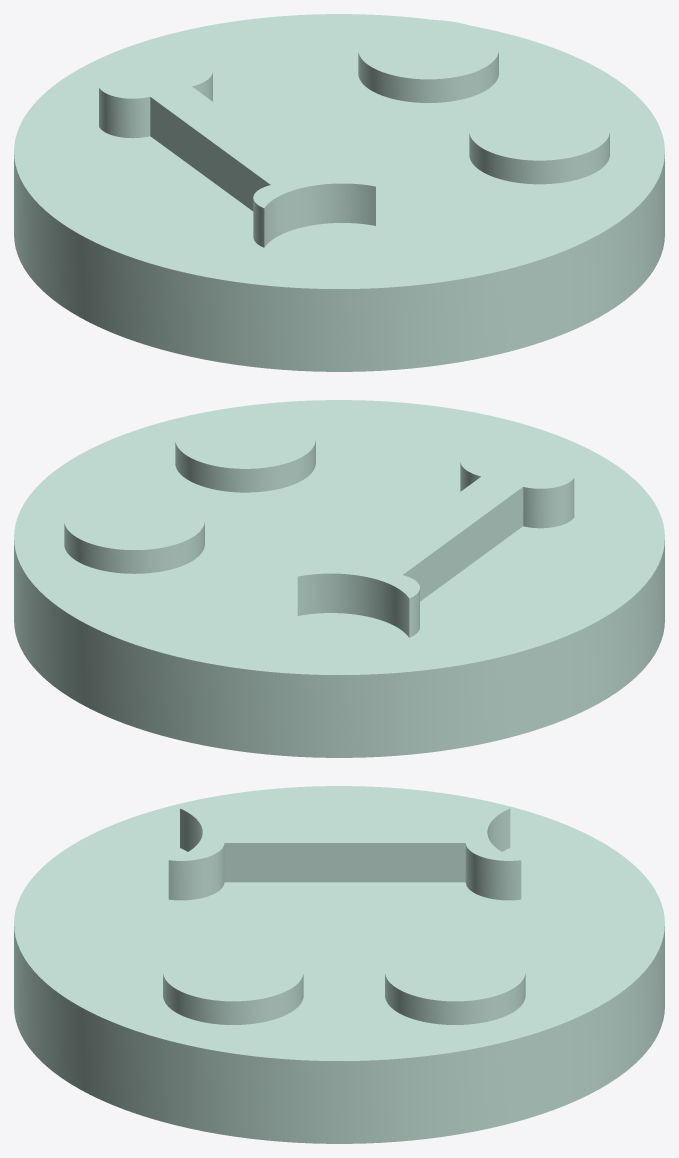
The picture shows the model from 3 angles, top to bottom: view 1: azimuth 30°, elevation 25°; view 2: azimuth 150°, elevation 25°; view 3: azimuth 270°, elevation 25°; orthographic projection.
Visible parts, largest first — view 1: Renderer Node; view 2: Renderer Node; view 3: Renderer Node.
Boxes of the visible parts, x1,y1,x2,y2 form: Renderer Node: [14, 14, 664, 371]; Renderer Node: [14, 400, 664, 757]; Renderer Node: [14, 786, 664, 1143].
Size of the model in its own units: 1.17 by 0.2422 by 1.17.
